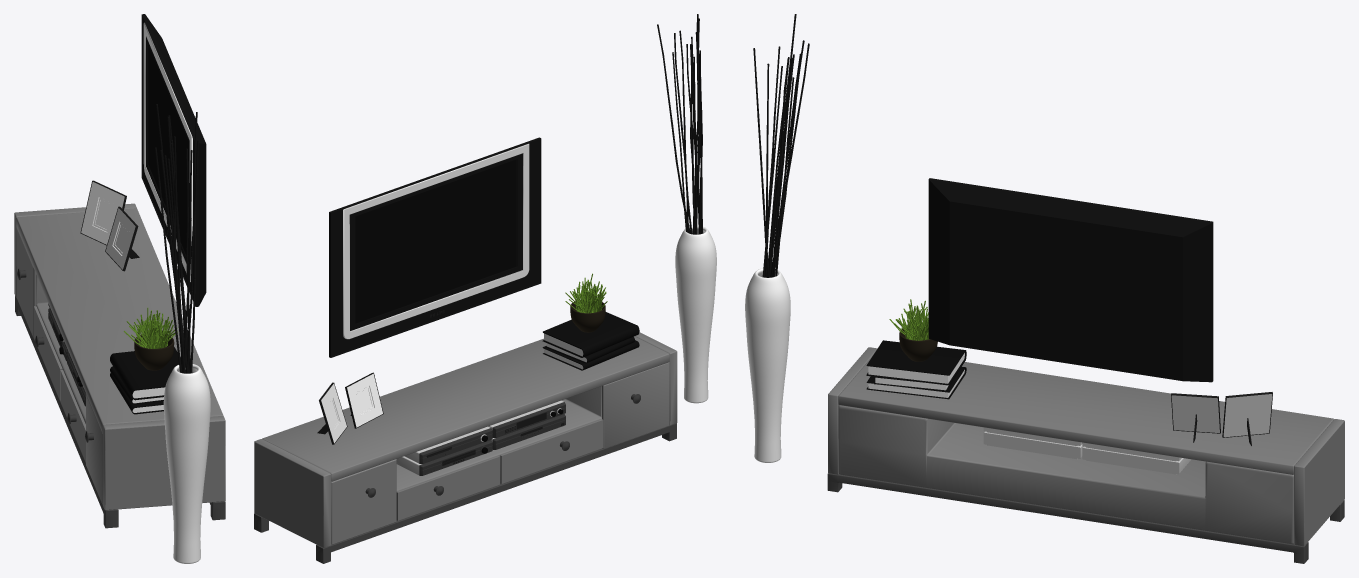
Rendered from DianShiGui.FBX.
3 renders of one model, left to right at view 1: azimuth 30°, elevation 25°; view 2: azimuth 150°, elevation 25°; view 3: azimuth 270°, elevation 25°, orthographic. The views are drawn at different scales.
Parts seen in each view (by area): view 1: Box21, ArchInter0, ArchInteriors_12_06_obj_307, ArchInteriors_12_06_obj_219, Archinteriors4_002_83, Box02, ArchInteriors_12_06_obj_220, Box11, Box01, Archinteriors_11_02_106, ArchInteriors_12_06_obj_217, Archinteriors_11_02_107 (+15 smaller); view 2: Box21, ArchInteriors_12_06_obj_307, ArchInter0, ArchInteriors_12_06_obj_217, ArchInteriors_12_06_obj_220, Box11, ArchInteriors_12_06_obj_218, Archinteriors4_002_83, ArchInteriors_12_06_obj_219, Box01, ArchInteriors_12_06_obj_213, ArchInteriors_12_06_obj_211 (+7 smaller); view 3: Box21, ArchInteriors_12_06_obj_219, ArchInter0, Box11, Archinteriors4_002_83, Box02, Box01, ArchInteriors_12_06_obj_211, ArchInteriors_12_06_obj_210, Archinteriors_11_02_106, Archinteriors4_002_84.
Boxes of the visible parts, x1,y1,x2,y2 form: Box21: (14,203,225,510); ArchInter0: (163,364,210,563); ArchInteriors_12_06_obj_307: (148,45,188,260); ArchInteriors_12_06_obj_219: (141,14,206,306); Archinteriors4_002_83: (110,347,180,400); Box02: (80,180,126,245); ArchInteriors_12_06_obj_220: (143,22,192,281); Box11: (15,296,225,528); Box01: (105,206,139,271); Archinteriors_11_02_106: (124,307,177,348); ArchInteriors_12_06_obj_217: (142,18,194,297); Archinteriors_11_02_107: (134,334,174,370); Box21: (254,332,677,547); ArchInteriors_12_06_obj_307: (355,159,516,323); ArchInter0: (675,225,716,403); ArchInteriors_12_06_obj_217: (332,140,539,355); ArchInteriors_12_06_obj_220: (343,143,529,339); Box11: (254,423,676,563); ArchInteriors_12_06_obj_218: (349,153,522,330); Archinteriors4_002_83: (542,312,639,357); ArchInteriors_12_06_obj_219: (329,137,541,357); Box01: (345,372,383,428); ArchInteriors_12_06_obj_213: (404,426,492,463); ArchInteriors_12_06_obj_211: (396,440,492,475); Box21: (828,347,1344,546); ArchInteriors_12_06_obj_219: (928,178,1213,382); ArchInter0: (745,268,790,462); Box11: (827,473,1344,563); Archinteriors4_002_83: (866,340,966,385); Box02: (1222,392,1272,445); Box01: (1171,393,1220,442); ArchInteriors_12_06_obj_211: (1082,446,1191,474); ArchInteriors_12_06_obj_210: (983,431,1083,459); Archinteriors_11_02_106: (889,299,929,340); Archinteriors4_002_84: (866,367,966,399).
Size of the model in its own units: 42.35 by 71.38 by 88.98.
